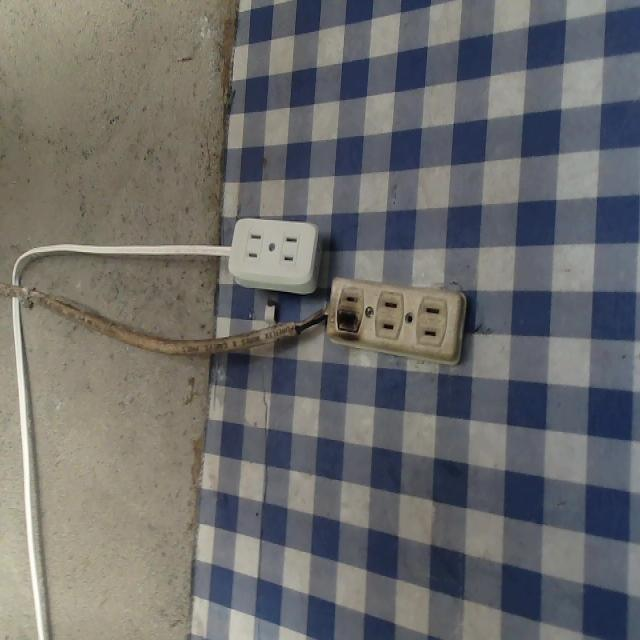-: (333, 297, 360, 335)
